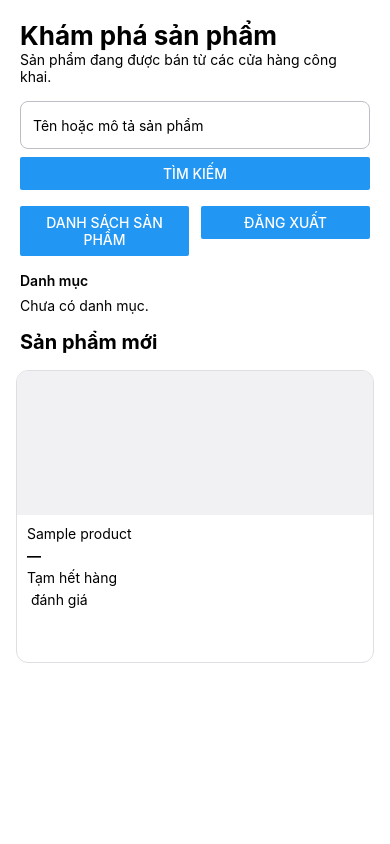
Test: reports a failed logout and lets the signed-in user retry
This screenshot has width=390, height=844.
Expected: the text "Sample product" is shown, [27,525,132,542]
Click the button "Đăng xuất".
click(286, 222)  # box [201,206,370,239]
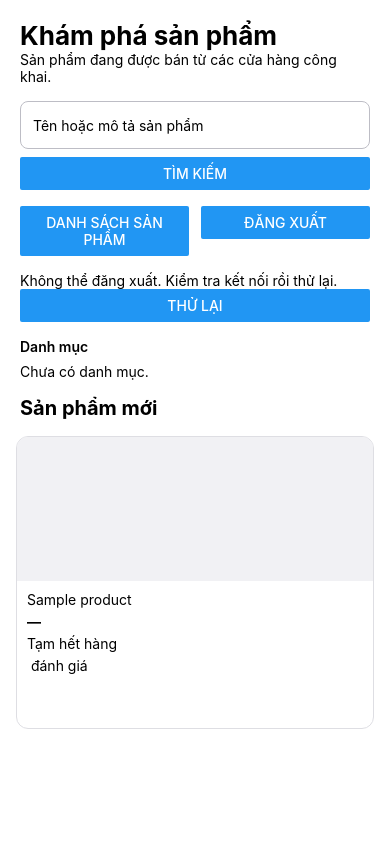
Now the text "Không thể đăng xuất. Kiểm tra kết nối rồi thử lại." is shown, box [20,272,370,289]
Click the button "Thử lại".
click(195, 306)  # box [20,289,370,322]
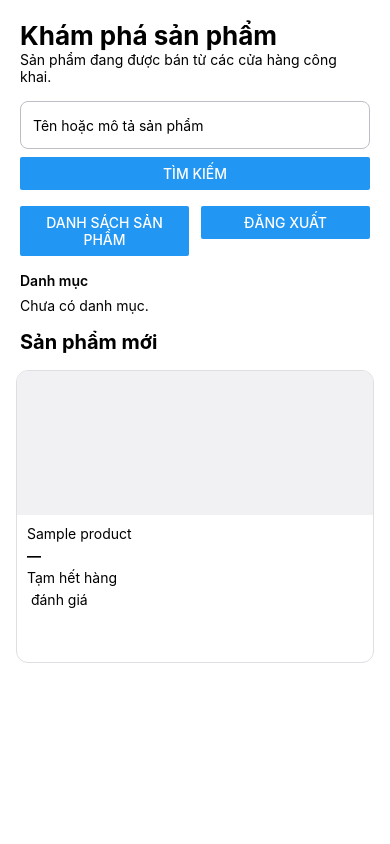
Now the text "Không thể đăng xuất. Kiểm tra kết nối rồi thử lại." is gone
